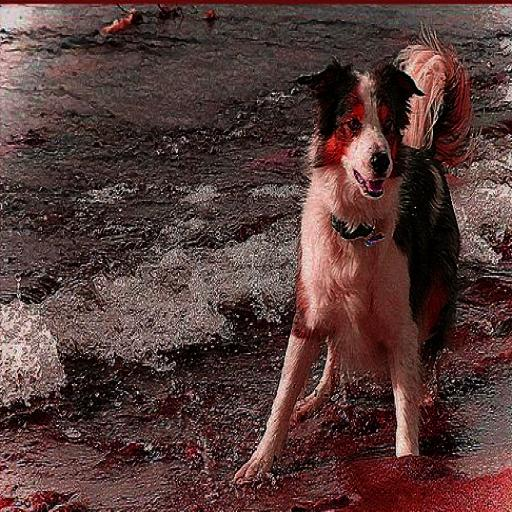dog_face: (302, 55, 420, 208)
